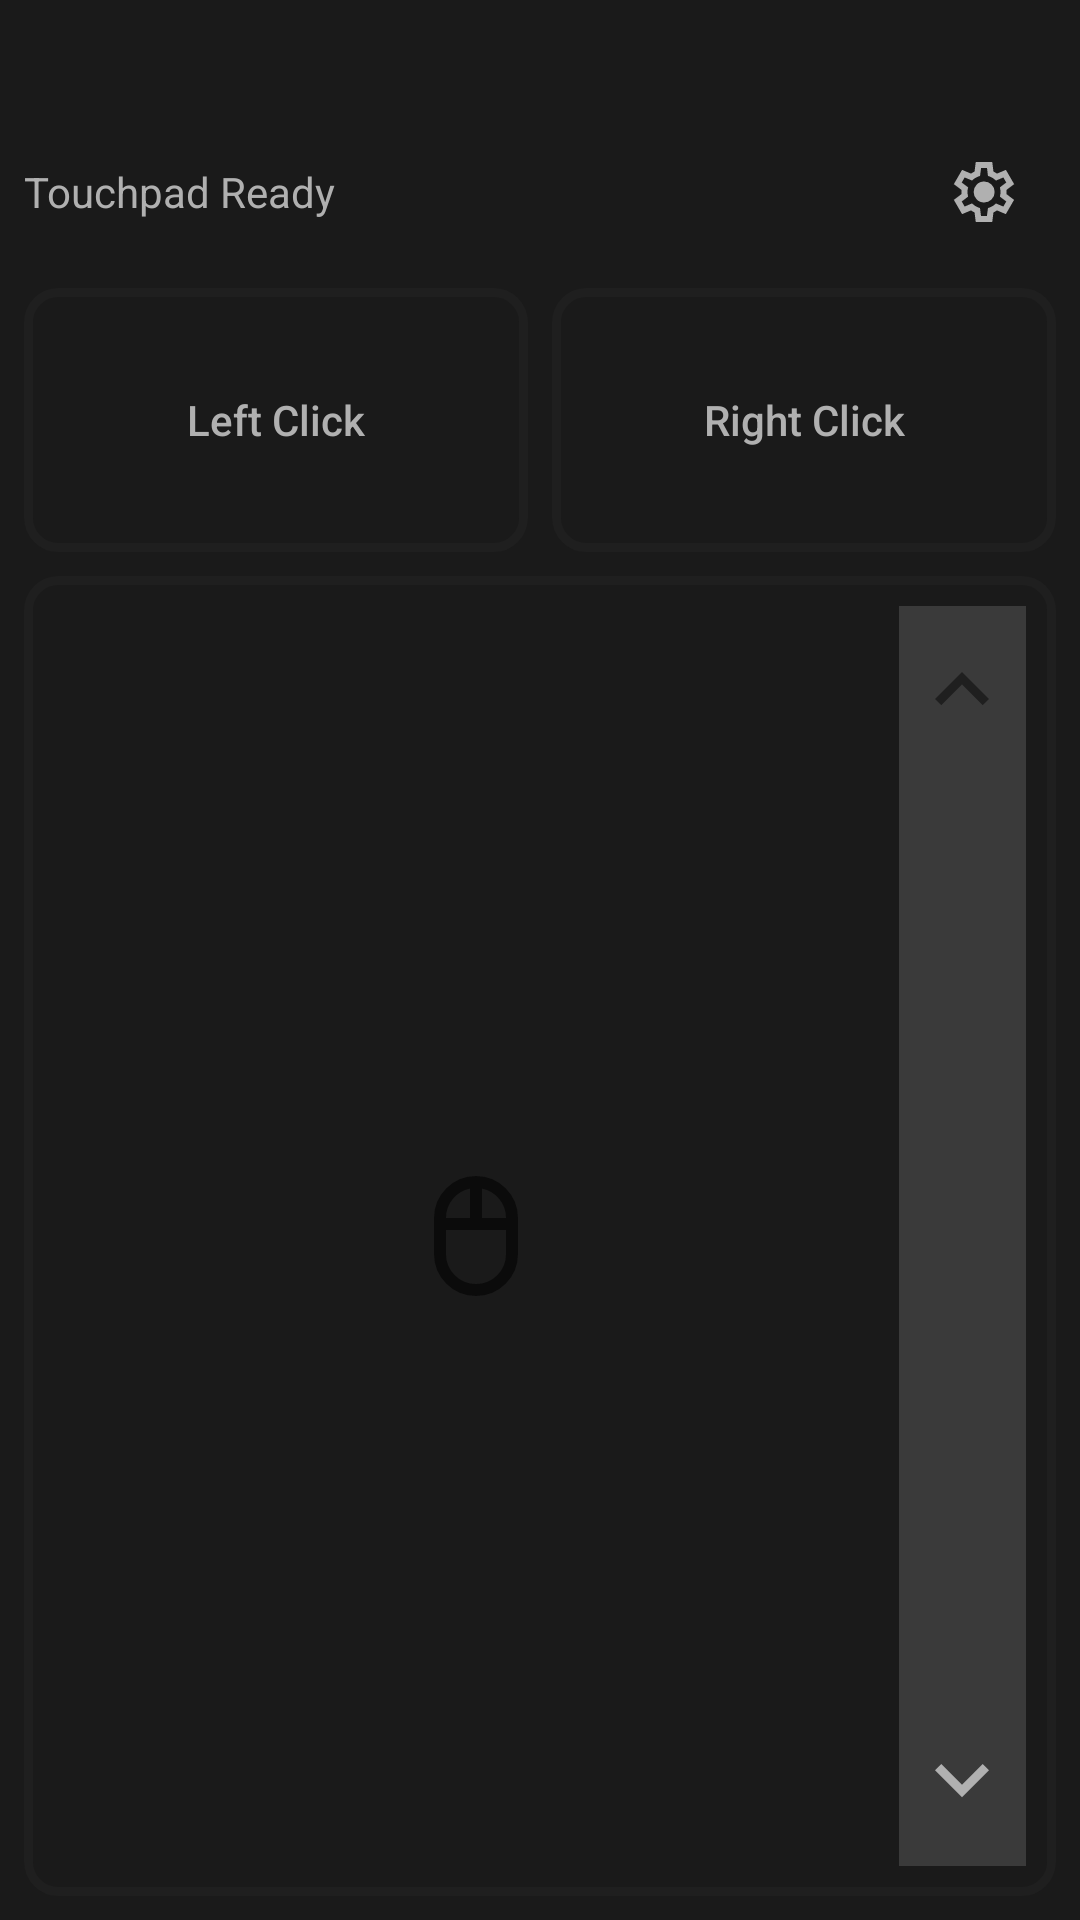

Named icons in this screenshot (1080*1920) and their centers, point (x, y):
Scroll down: point (962, 1780)
Scroll up: point (962, 688)
Settings: point (984, 192)
